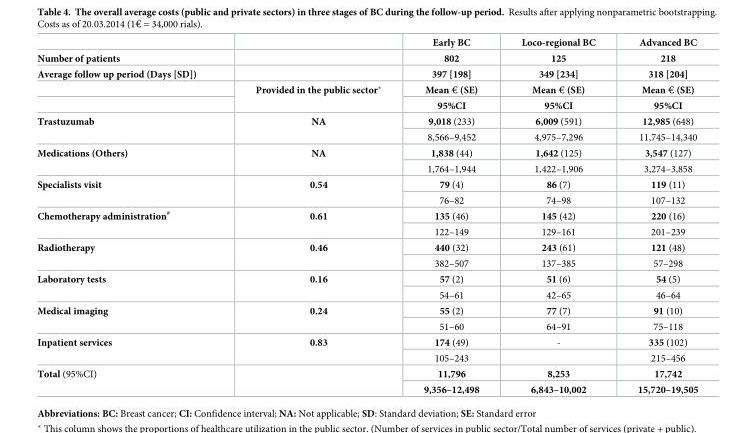table: (36, 37, 697, 394)
table column: (36, 37, 225, 394), (225, 37, 401, 394), (499, 37, 615, 394), (401, 37, 499, 394), (615, 37, 697, 394)
table column header: (36, 37, 697, 113)
table row: (36, 80, 697, 97), (36, 97, 697, 113), (36, 113, 697, 129), (36, 144, 697, 160), (36, 160, 697, 176), (36, 176, 697, 192), (36, 207, 697, 223), (36, 223, 697, 239), (36, 239, 697, 255), (36, 255, 697, 271), (36, 286, 697, 302), (36, 302, 697, 318), (36, 318, 697, 334), (36, 334, 697, 350), (36, 365, 697, 381), (36, 50, 697, 65), (36, 65, 697, 80), (36, 129, 697, 144), (36, 192, 697, 207), (36, 271, 697, 286), (36, 350, 697, 365), (36, 37, 697, 50), (36, 381, 697, 394)
table spanning cell: (36, 37, 225, 113), (225, 37, 401, 113), (499, 37, 615, 113), (401, 37, 499, 113), (615, 37, 697, 113), (36, 144, 225, 176), (36, 207, 225, 239), (36, 239, 225, 271), (36, 302, 225, 334), (36, 113, 225, 144), (36, 176, 225, 207), (36, 271, 225, 302), (36, 334, 225, 365), (225, 144, 401, 176), (225, 207, 401, 239), (225, 239, 401, 271), (225, 302, 401, 334), (36, 365, 225, 394), (225, 113, 401, 144), (225, 176, 401, 207), (225, 271, 401, 302), (225, 334, 401, 365)
